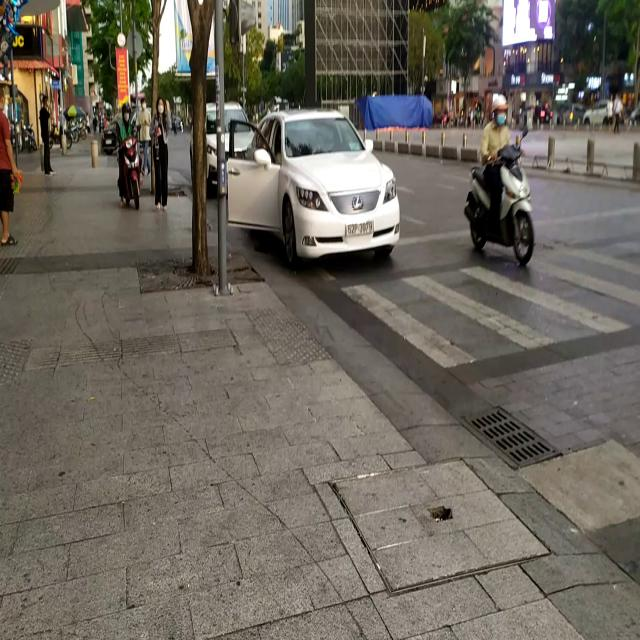bien_trang: (344, 222, 378, 238)
